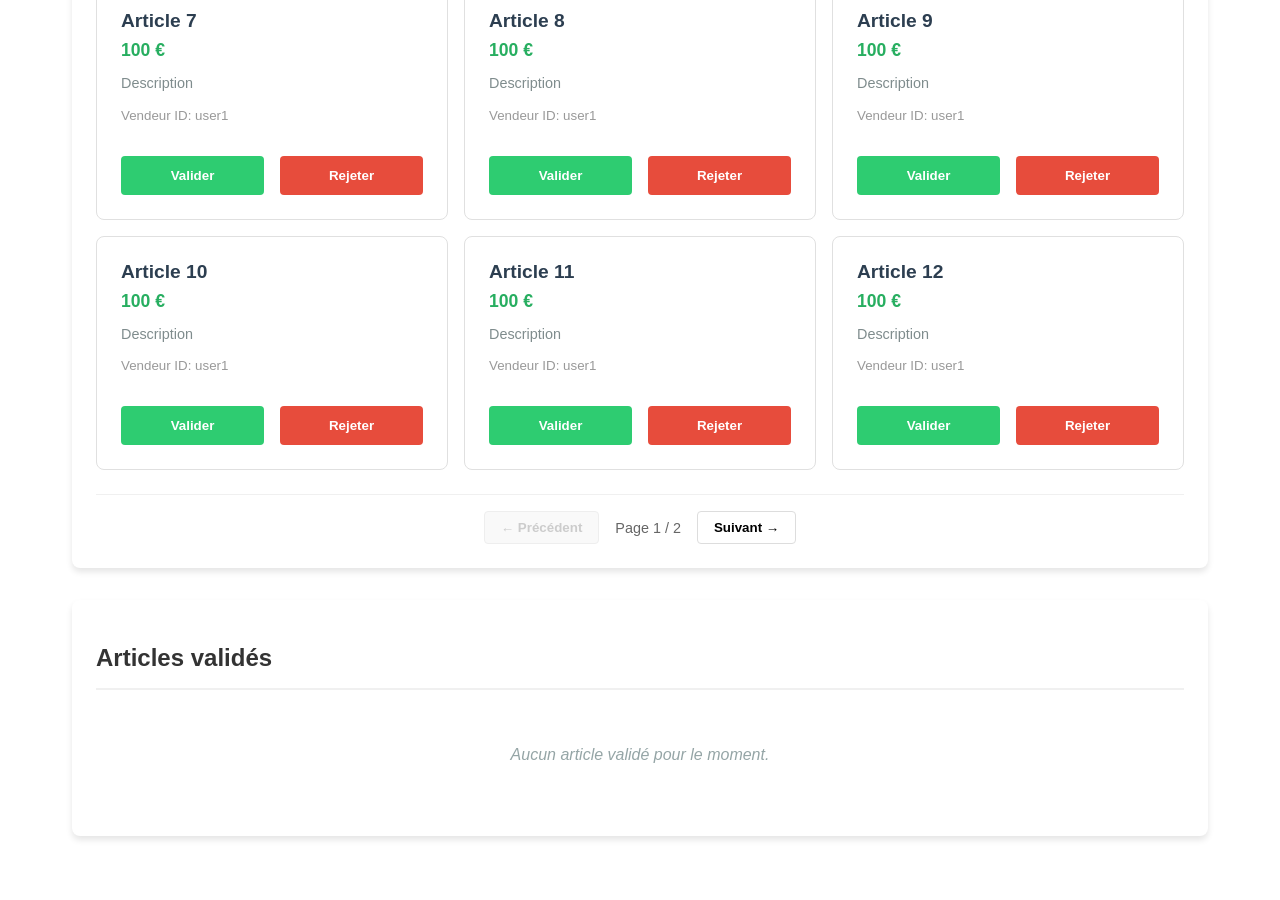
Test case: AdminDashboard › should paginate pending articles
The image size is (1280, 900).
(page scrolled)
Check: the heading "Article 12" is shown, box [857,261,943,282]
Check: the text "Article 13" is not shown
# Navigate to page 2
Click the button "Suivant →" at (747, 528), box [697,512,796,544]
(page scrolled)
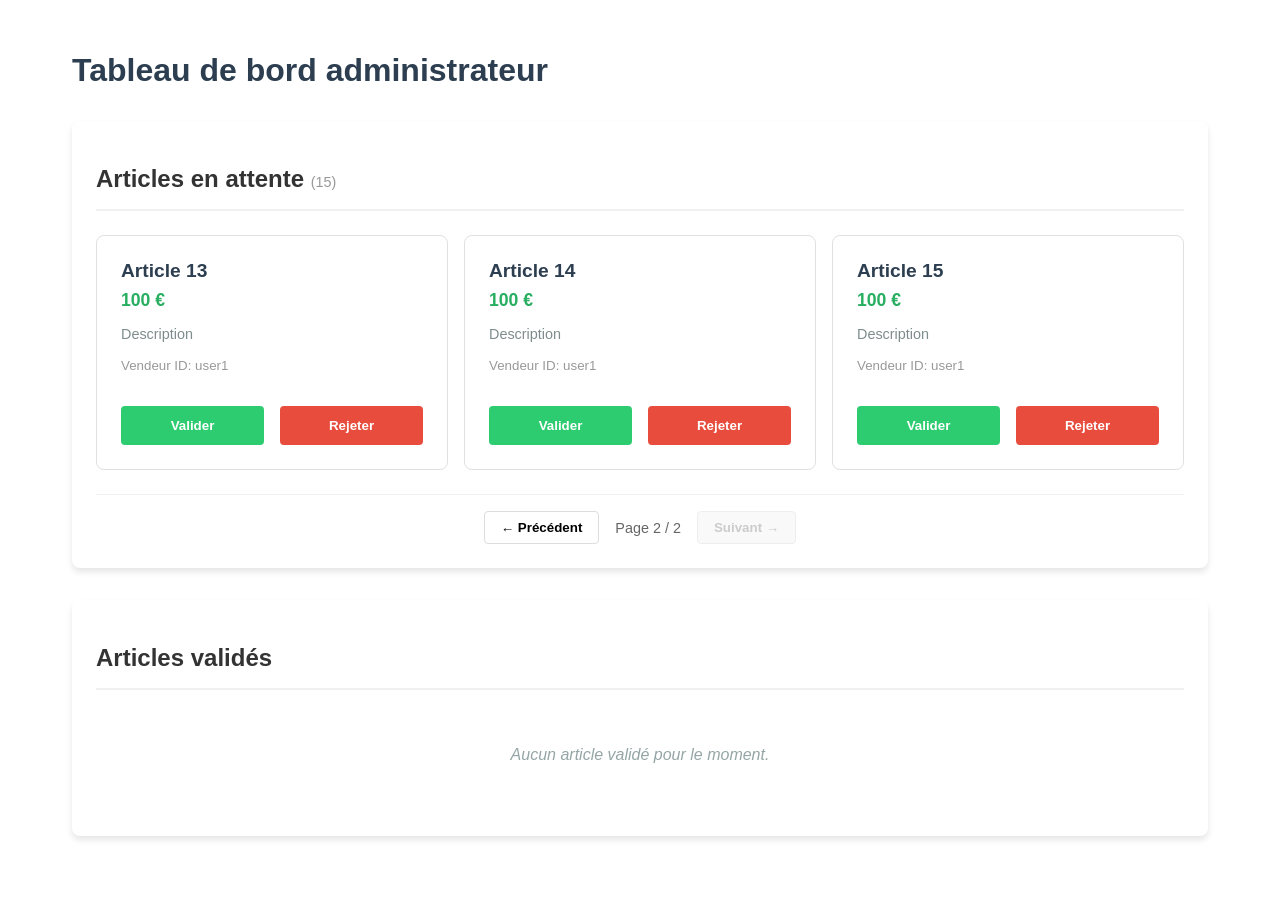
Check: the heading "Article 13" is shown, box [121,260,207,281]
Check: the text "Page 2 / 2" is shown, box [615,520,681,536]
